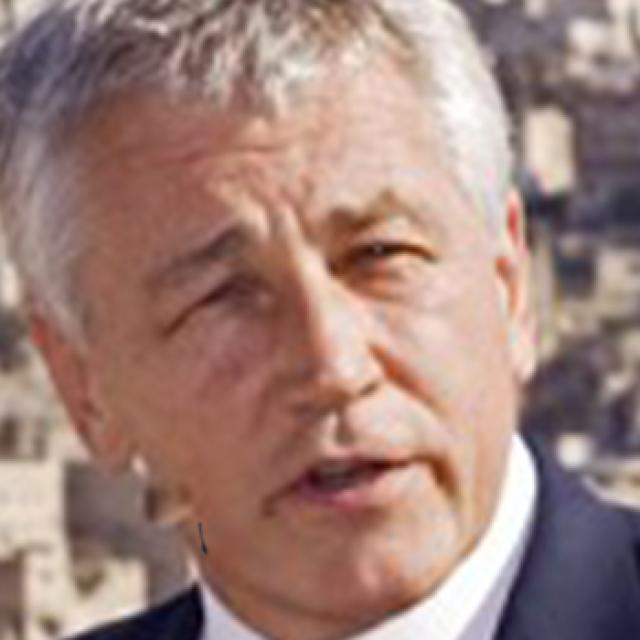Depress: (70, 30, 509, 602)
